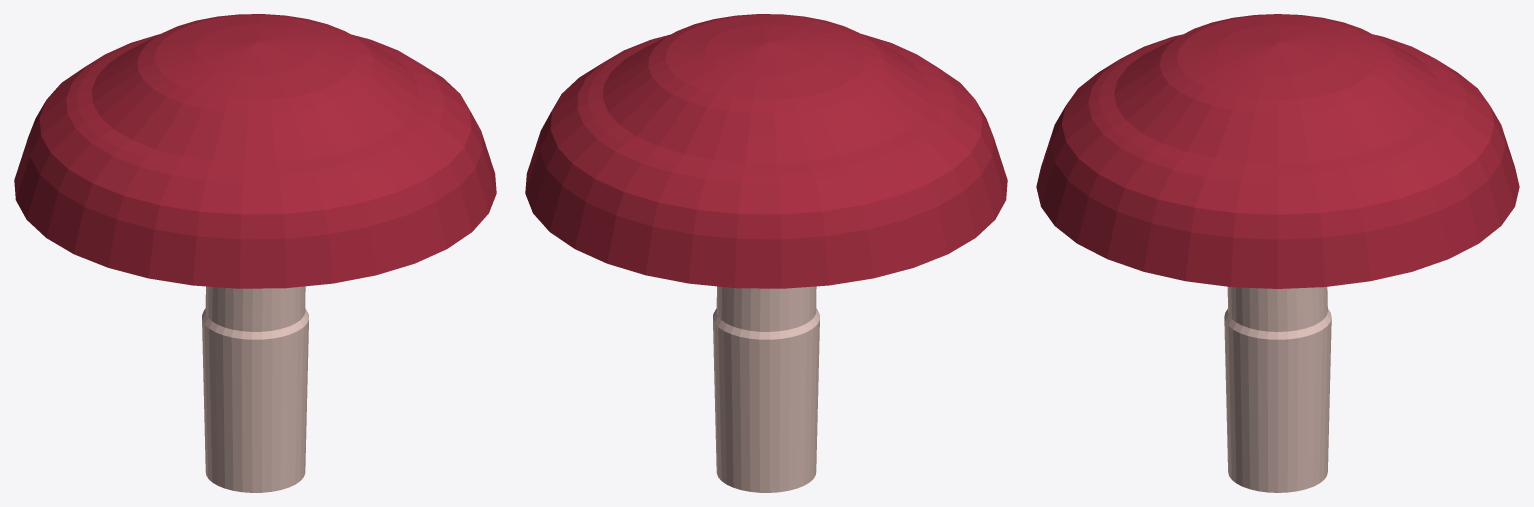
File: Red Mushroom 1.fbx
3 renders of one model, left to right at view 1: azimuth 30°, elevation 25°; view 2: azimuth 150°, elevation 25°; view 3: azimuth 270°, elevation 25°, orthographic.
Parts seen in each view (by area): view 1: Mushroom1.1; view 2: Mushroom1.1; view 3: Mushroom1.1.
Boxes of the visible parts, <box> form: Mushroom1.1: <box>14,14,496,492</box>; Mushroom1.1: <box>525,14,1007,492</box>; Mushroom1.1: <box>1036,14,1519,492</box>.
Bounding box in the file's own units: 968 × 947 × 968.
